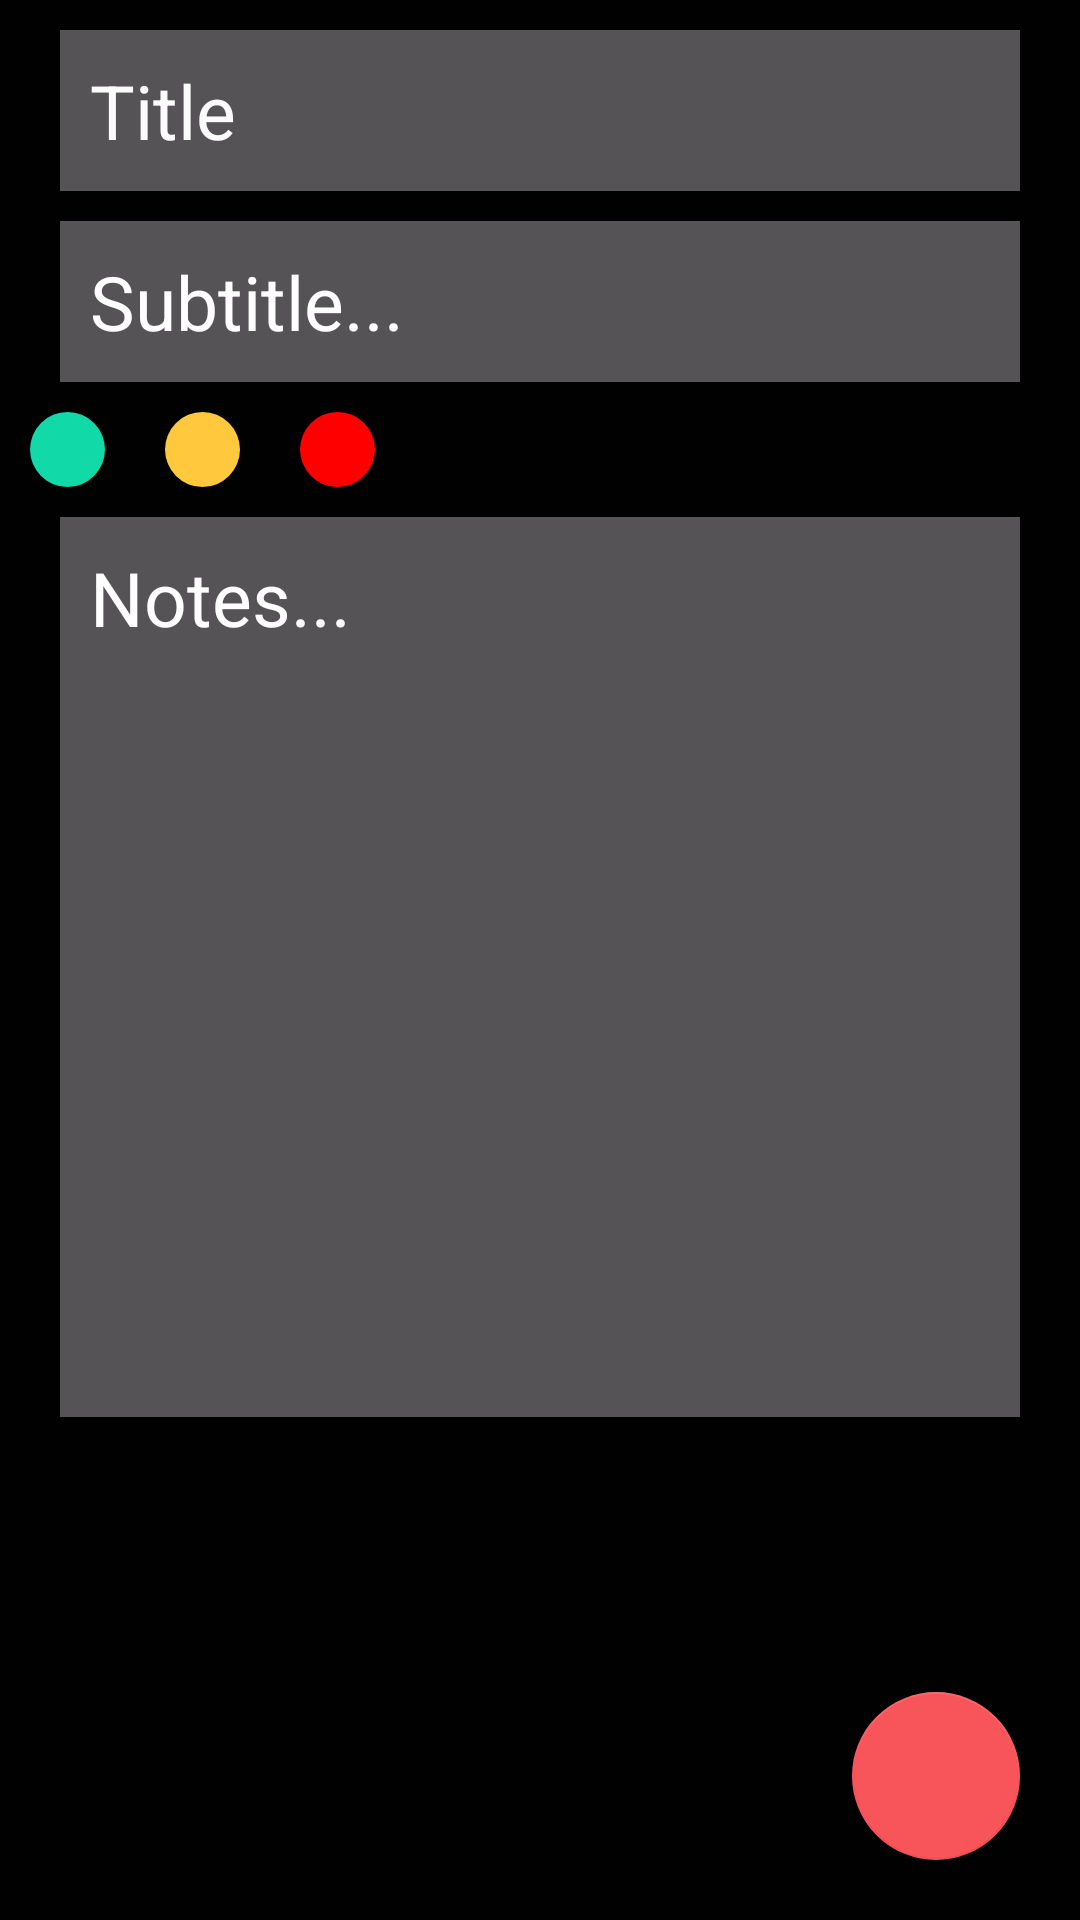

Screen size 1080px x 1920px. Icon name, then its box in pixels as detection(x1, y1, x2, y2):
dot: detection(30, 412, 105, 487), detection(165, 412, 240, 487), detection(300, 412, 375, 487)
